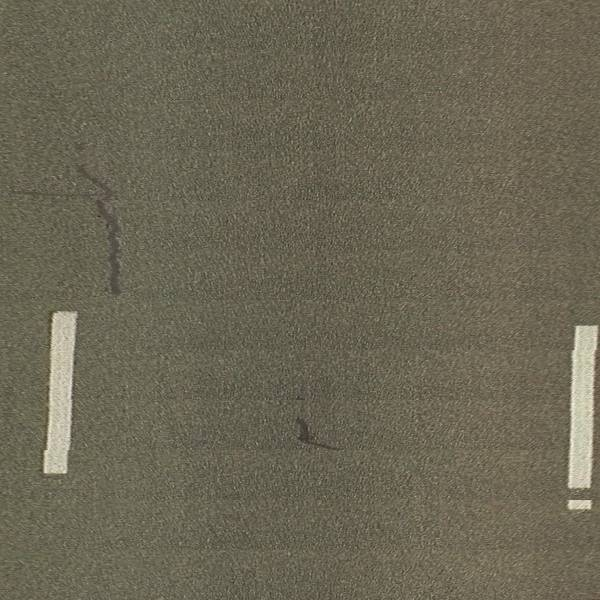road_damage: (80, 167, 126, 299), (292, 414, 344, 452)
